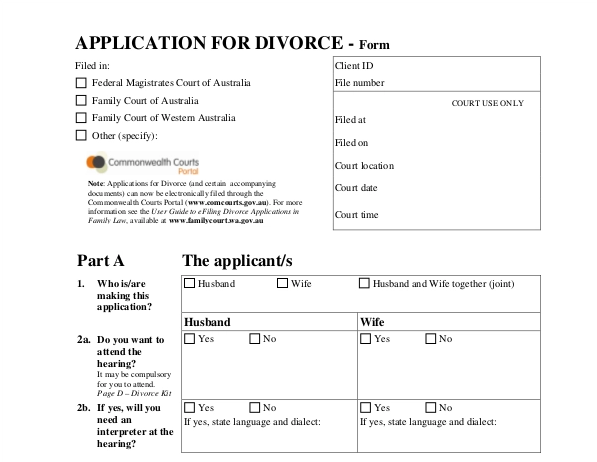checkbox: (248, 331, 260, 344), (76, 76, 87, 89), (75, 93, 86, 106), (75, 110, 86, 123), (75, 128, 86, 141), (183, 276, 194, 289), (276, 276, 287, 289), (358, 276, 369, 289), (359, 331, 370, 344), (424, 331, 435, 344), (424, 400, 435, 413), (359, 400, 370, 413), (249, 400, 260, 413), (183, 400, 194, 413), (183, 331, 194, 344)
